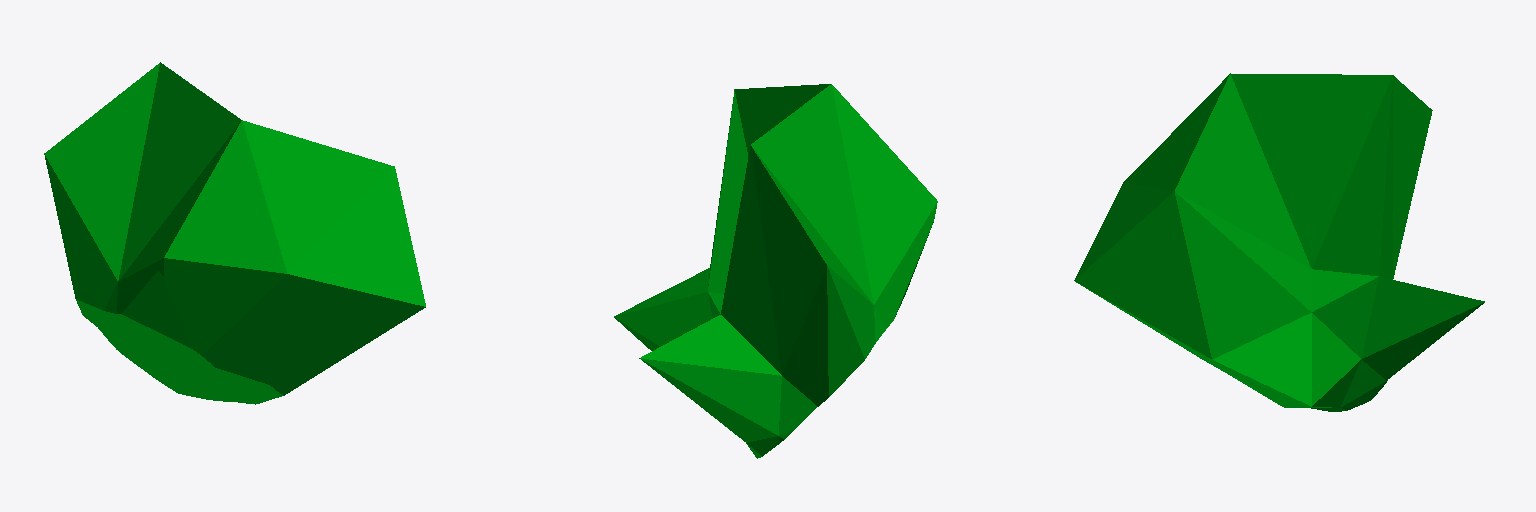
The model's file is aquaticbush_2.obj.
The picture shows the model from 3 angles: view 1: azimuth 30°, elevation 25°; view 2: azimuth 150°, elevation 25°; view 3: azimuth 270°, elevation 25°; orthographic projection.
Visible parts, largest first — view 1: Icosphere.004; view 2: Icosphere.004; view 3: Icosphere.004.
Boxes of the visible parts, x1=… form: Icosphere.004: x1=44, y1=62, x2=425, y2=404; Icosphere.004: x1=614, y1=84, x2=937, y2=458; Icosphere.004: x1=1074, y1=73, x2=1484, y2=411.
Size of the model in its own units: 1.14 by 1.28 by 1.46.